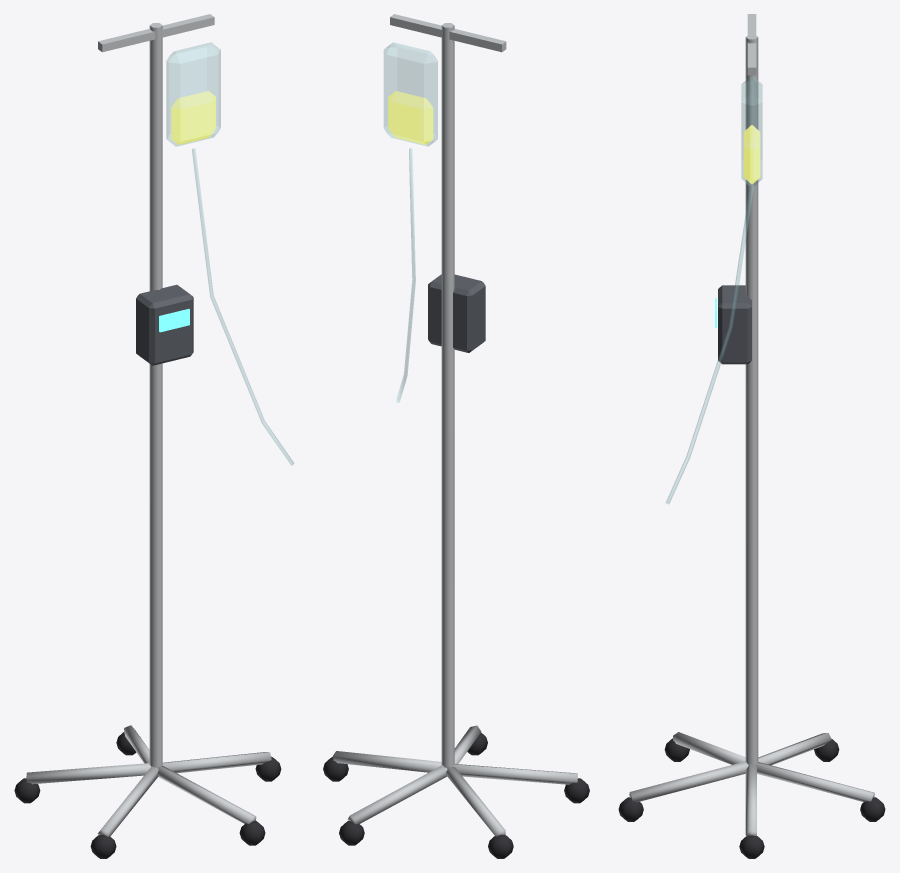
Rendered from iv_stand.glb.
The picture shows the model from 3 angles, left to right: view 1: azimuth 30°, elevation 25°; view 2: azimuth 150°, elevation 25°; view 3: azimuth 270°, elevation 25°; orthographic projection.
Parts seen in each view (by area): view 1: iv_stand; view 2: iv_stand; view 3: iv_stand.
Part boxes in pixels (x1,y1,x2,y2): iv_stand: (14,14,293,858); iv_stand: (323,14,589,858); iv_stand: (618,14,885,858).
Size of the model in its own units: 0.5947 by 2 by 0.6306.
